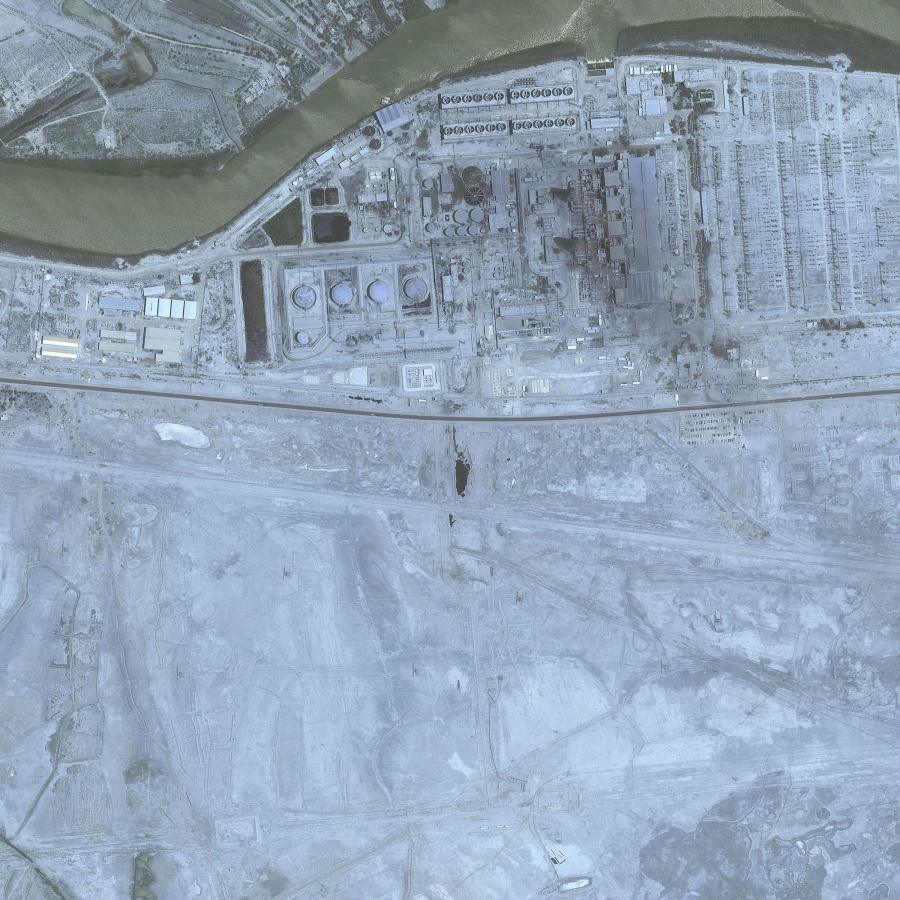PowerPlant: (217, 80, 717, 379)
